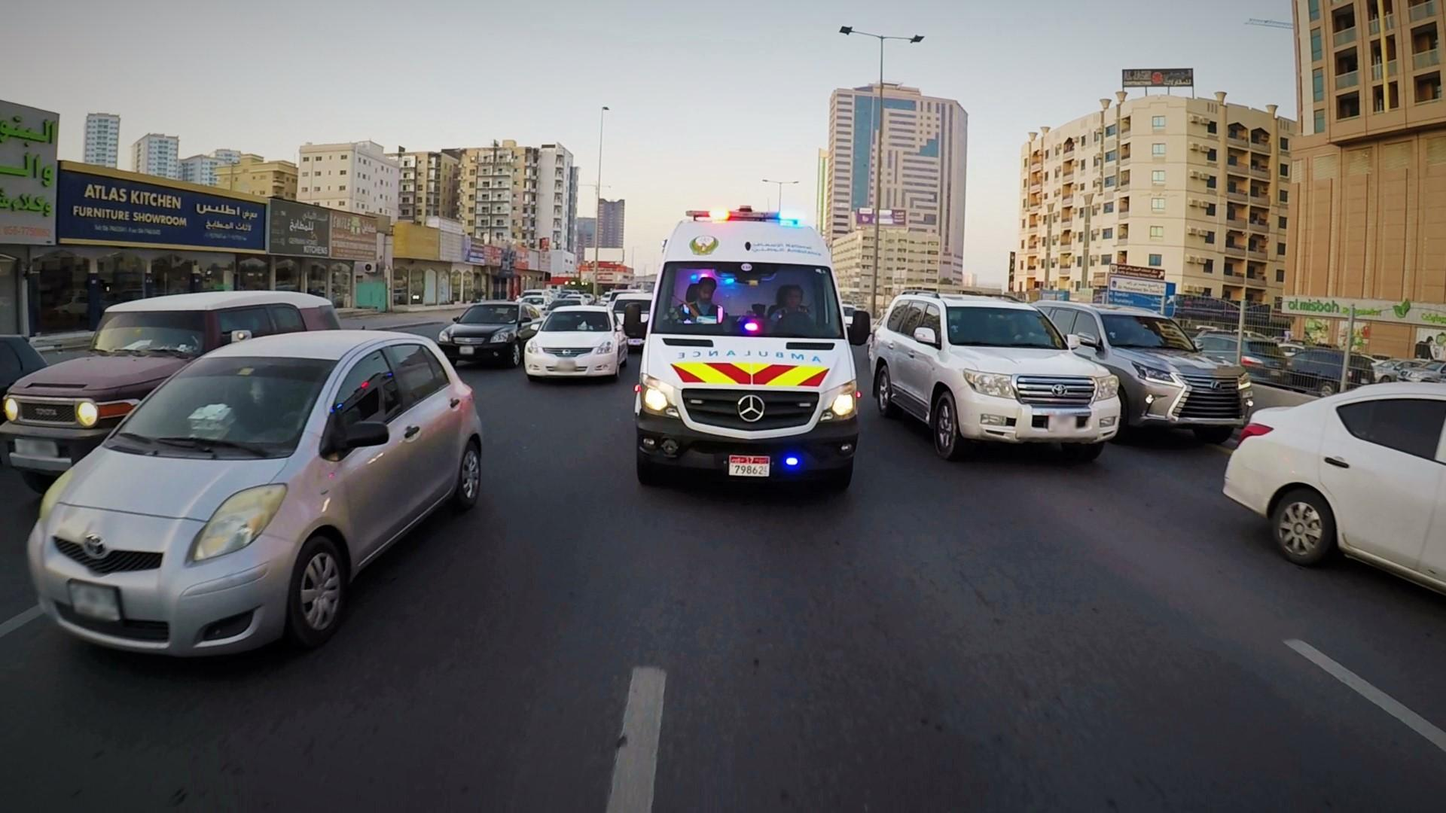ambulance: (628, 188, 858, 530)
